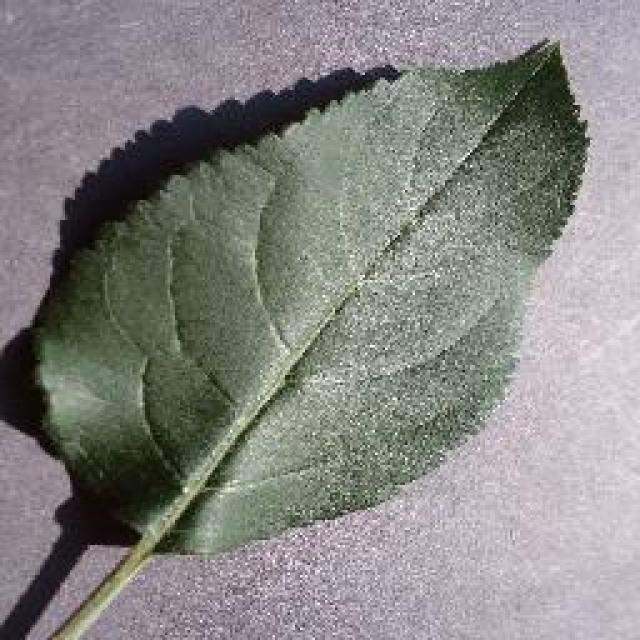apple healthy: (25, 35, 593, 560)
